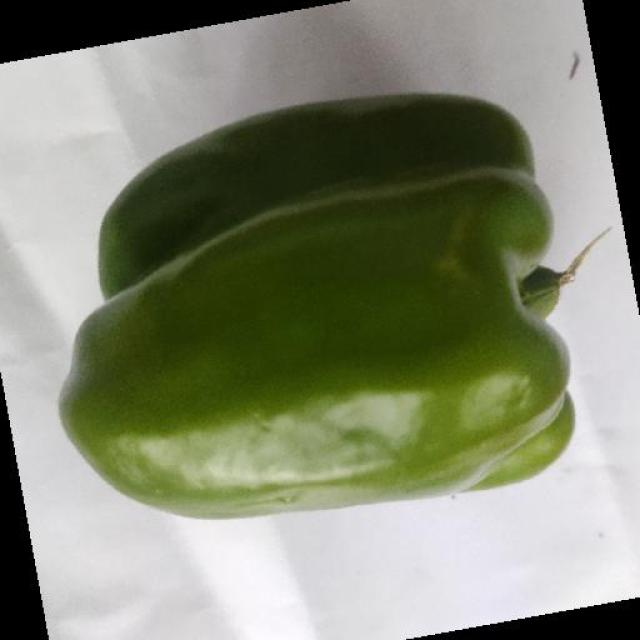Fresh_Capsicum: (77, 168, 640, 528)
